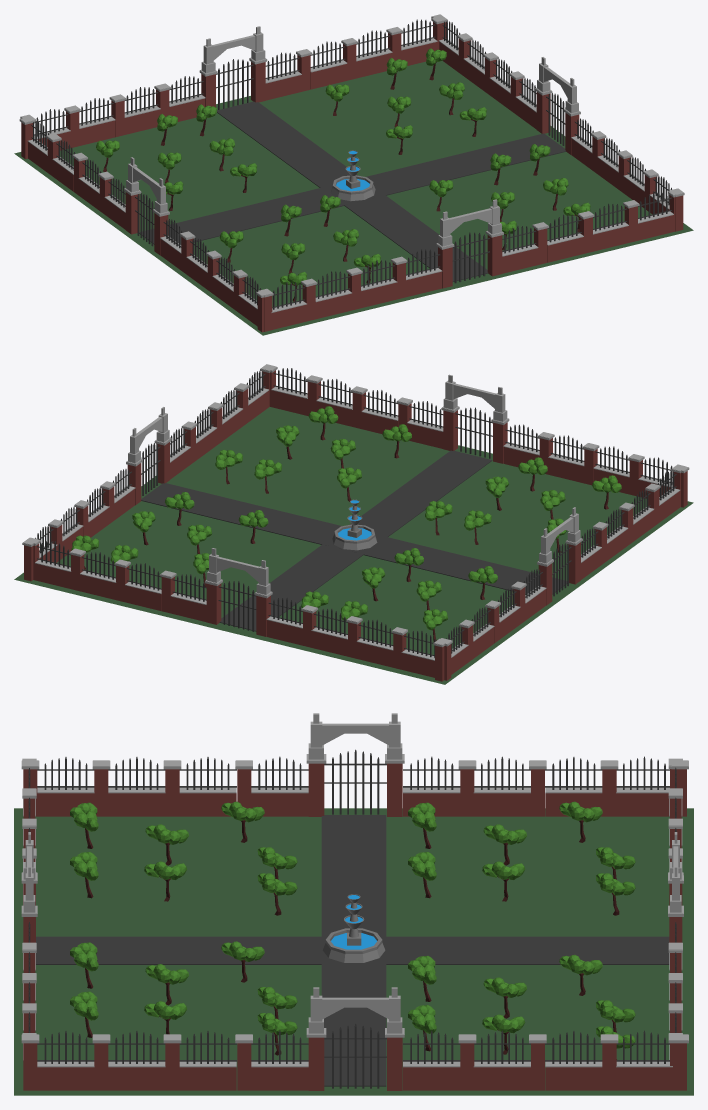
File: ParkLevel.fbx
3 views of the same model, one above another, from view 1: azimuth 30°, elevation 25°; view 2: azimuth 150°, elevation 25°; view 3: azimuth 270°, elevation 25° (orthographic). The views are drawn at different scales.
Visible parts, largest first — view 1: Cone.001; view 2: Cone.001; view 3: Cone.001.
Boxes of the visible parts, x1,y1,x2,y2 form: Cone.001: (14, 14, 693, 335); Cone.001: (14, 364, 693, 684); Cone.001: (14, 713, 693, 1095).
Bounding box in the file's own units: 248 × 41.54 × 248.
